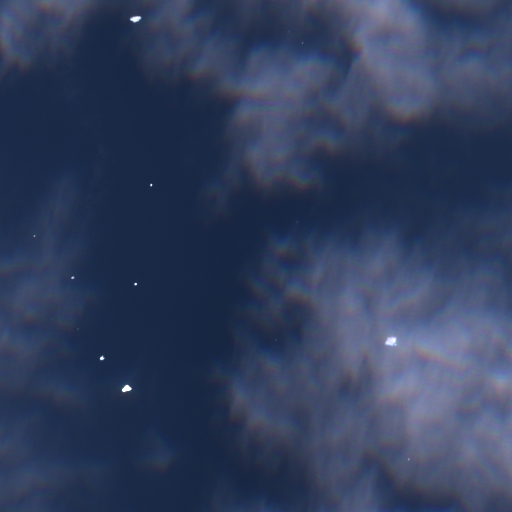Iceberg: (384, 336, 396, 345), (129, 15, 141, 22), (121, 384, 131, 392), (99, 355, 104, 360), (71, 276, 74, 279), (134, 282, 137, 285), (150, 183, 152, 186), (33, 235, 35, 237), (407, 458, 409, 460), (302, 42, 303, 43)
